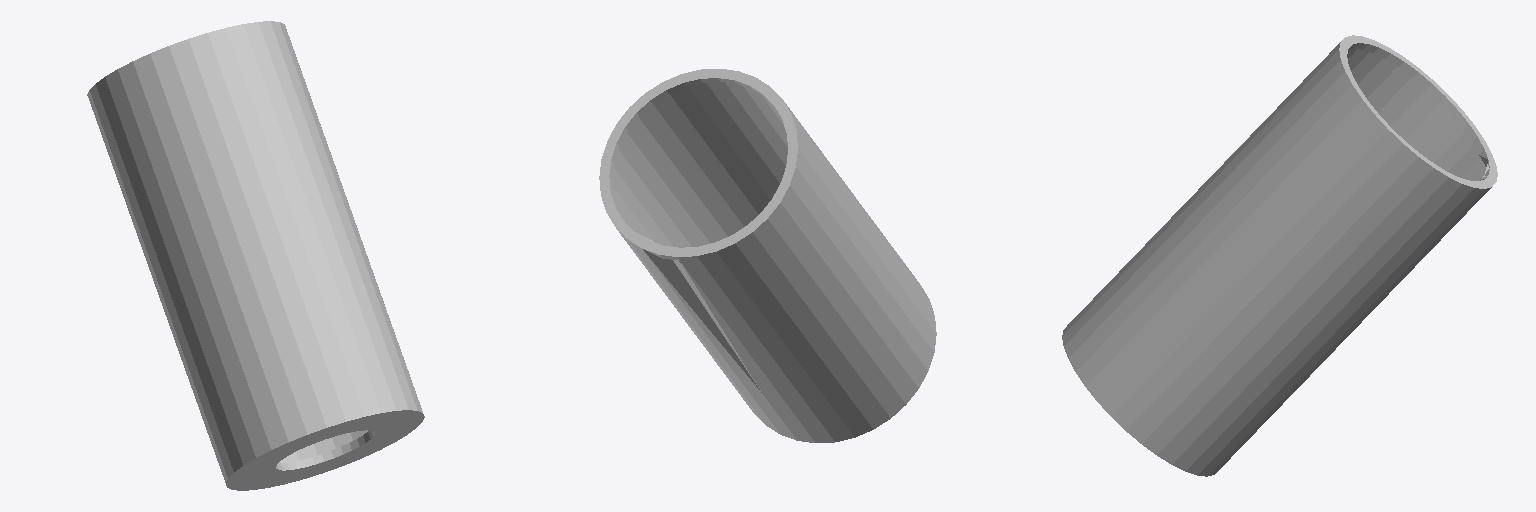
File: EngineBody0.obj
3 renders of one model, left to right at view 1: azimuth 30°, elevation 25°; view 2: azimuth 150°, elevation 25°; view 3: azimuth 270°, elevation 25°, orthographic.
Parts seen in each view (by area): view 1: VaccumCleanerTransparent_Cylinder.010; view 2: VaccumCleanerTransparent_Cylinder.010; view 3: VaccumCleanerTransparent_Cylinder.010.
Boxes of the visible parts, x1=… form: VaccumCleanerTransparent_Cylinder.010: x1=87, y1=21, x2=424, y2=490; VaccumCleanerTransparent_Cylinder.010: x1=599, y1=69, x2=936, y2=442; VaccumCleanerTransparent_Cylinder.010: x1=1062, y1=35, x2=1497, y2=476.
Size of the model in its own units: 0.5 by 1.08 by 1.03.